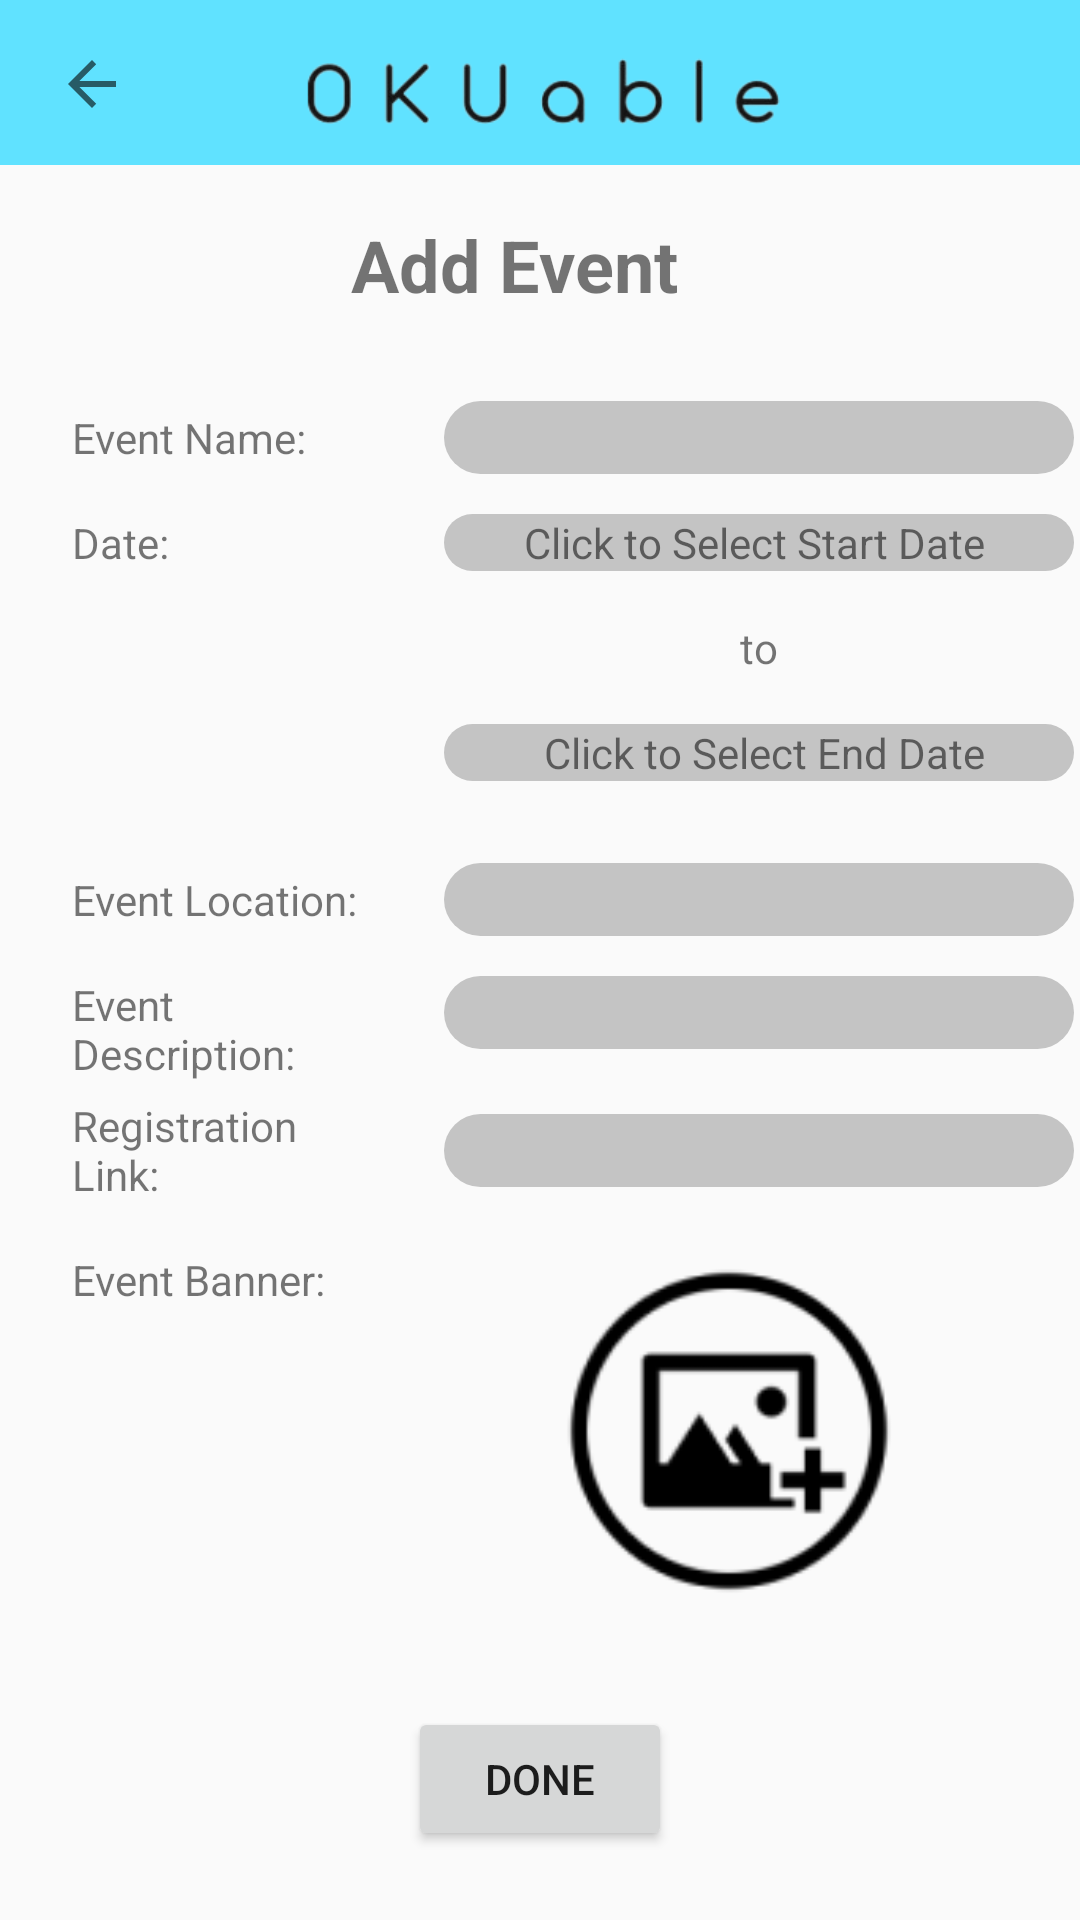

Icons on this 1080px×1920px Android screen, each with the point to tap as (x=x, y=y):
add: (x=729, y=1430)
